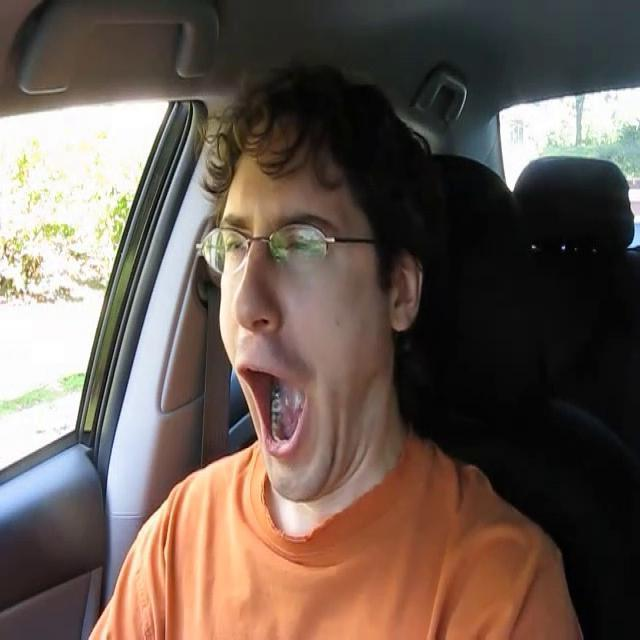close: (274, 212, 342, 276), (214, 209, 260, 265)
